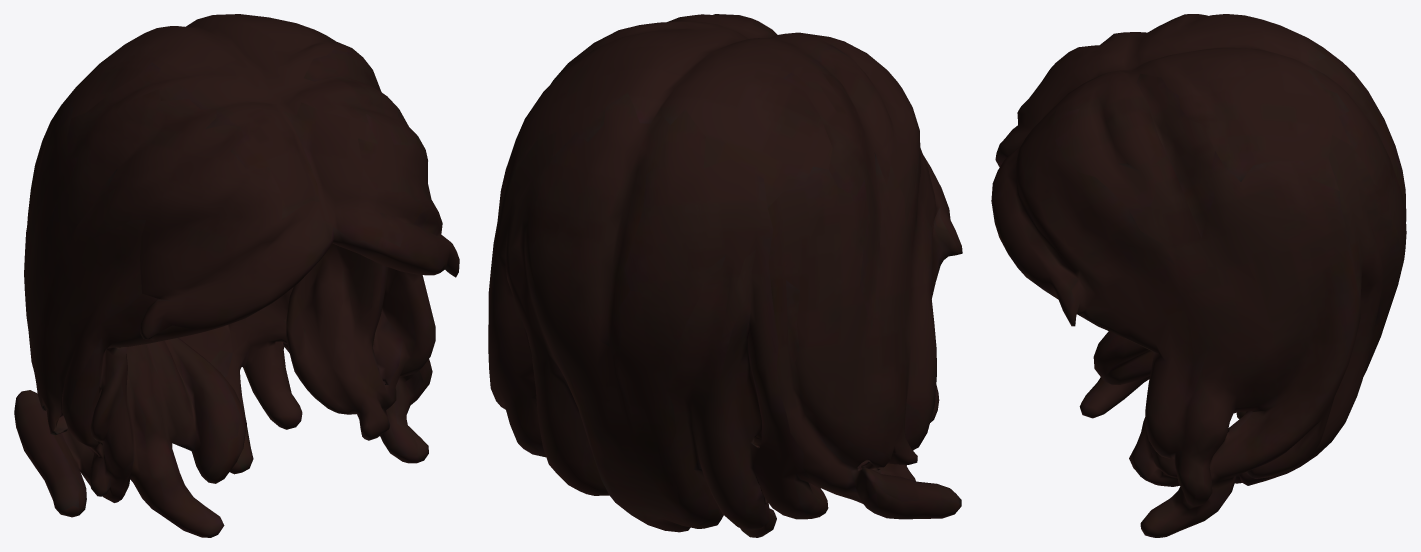
The model's file is Hirono Girl Hair2.glb.
The picture shows the model from 3 angles, left to right: view 1: azimuth 30°, elevation 25°; view 2: azimuth 150°, elevation 25°; view 3: azimuth 270°, elevation 25°; orthographic projection. The views are drawn at different scales.
Visible parts, largest first — view 1: hair.001; view 2: hair.001; view 3: hair.001.
Boxes of the visible parts, x1=… form: hair.001: x1=14, y1=14, x2=459, y2=537; hair.001: x1=488, y1=14, x2=962, y2=537; hair.001: x1=991, y1=14, x2=1406, y2=537.
Size of the model in its own units: 0.3772 by 0.4113 by 0.357.
Materials: 1 (1 with a texture image).
